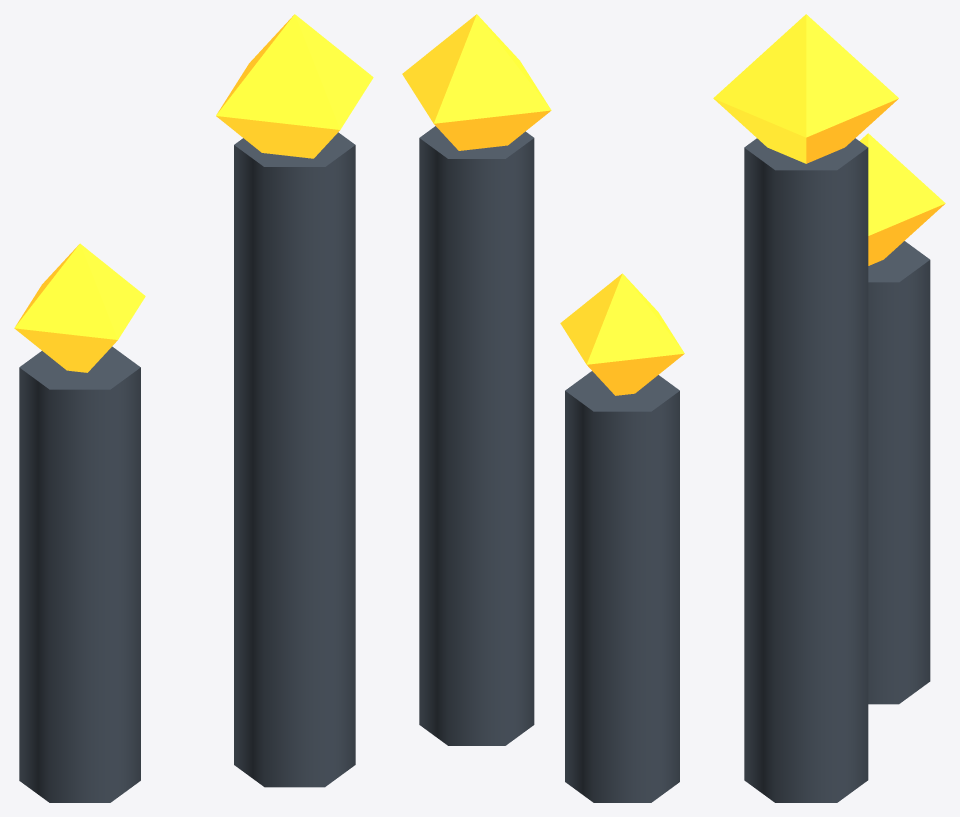
The model's file is candle_cluster.glb.
3 views of the same model, side by side, from view 1: azimuth 30°, elevation 25°; view 2: azimuth 150°, elevation 25°; view 3: azimuth 270°, elevation 25° (orthographic). The views are drawn at different scales.
Size of the model in its own units: 0.25 by 0.545 by 0.15.
